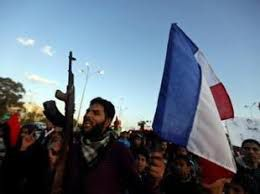French Flag: (152, 23, 233, 176)
